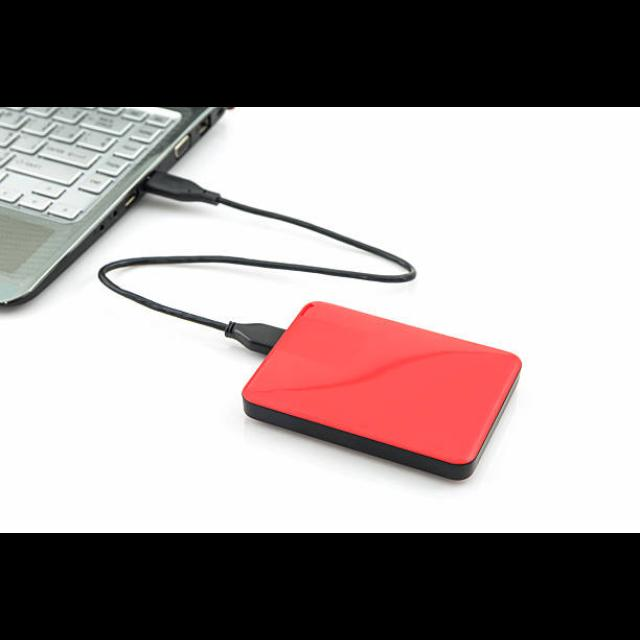HDD: (243, 302, 523, 482)
